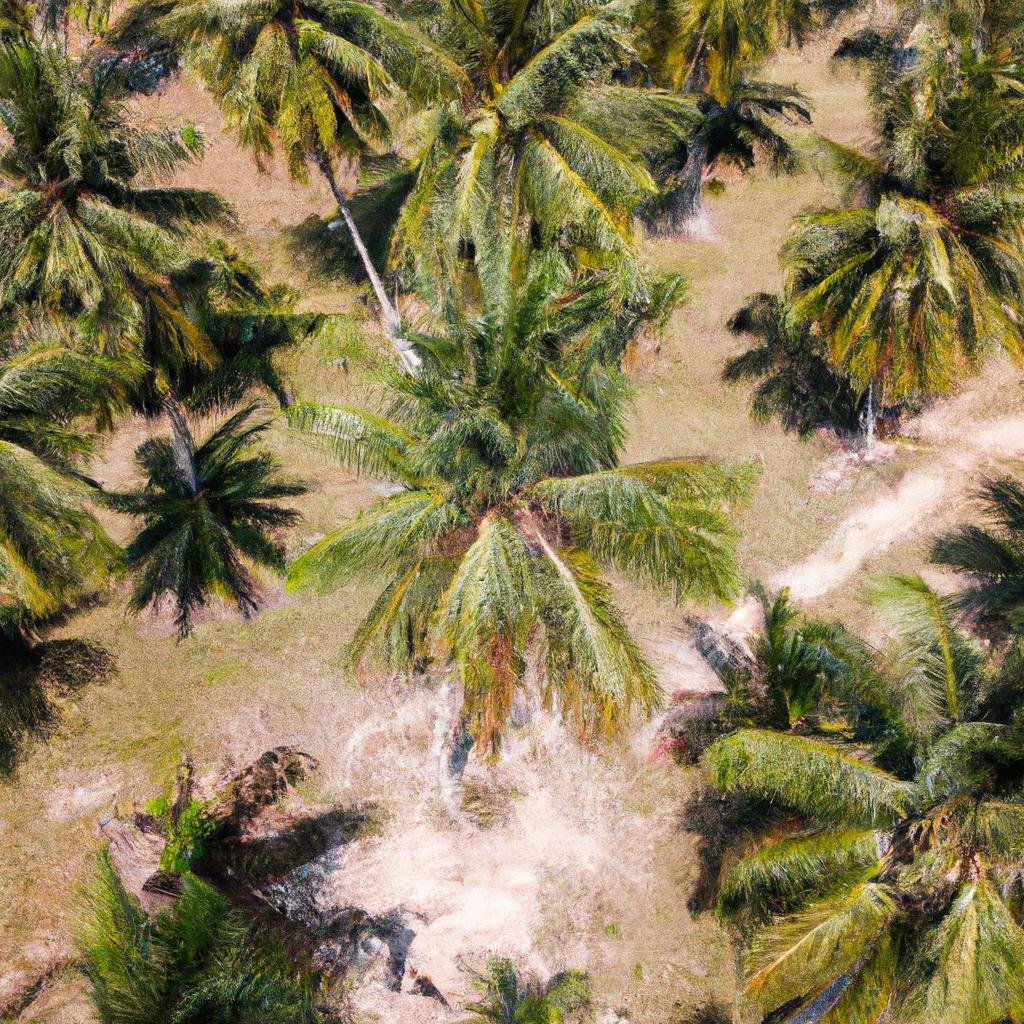coconut_tree: (301, 294, 751, 829), (316, 4, 743, 321), (728, 123, 1023, 404)
